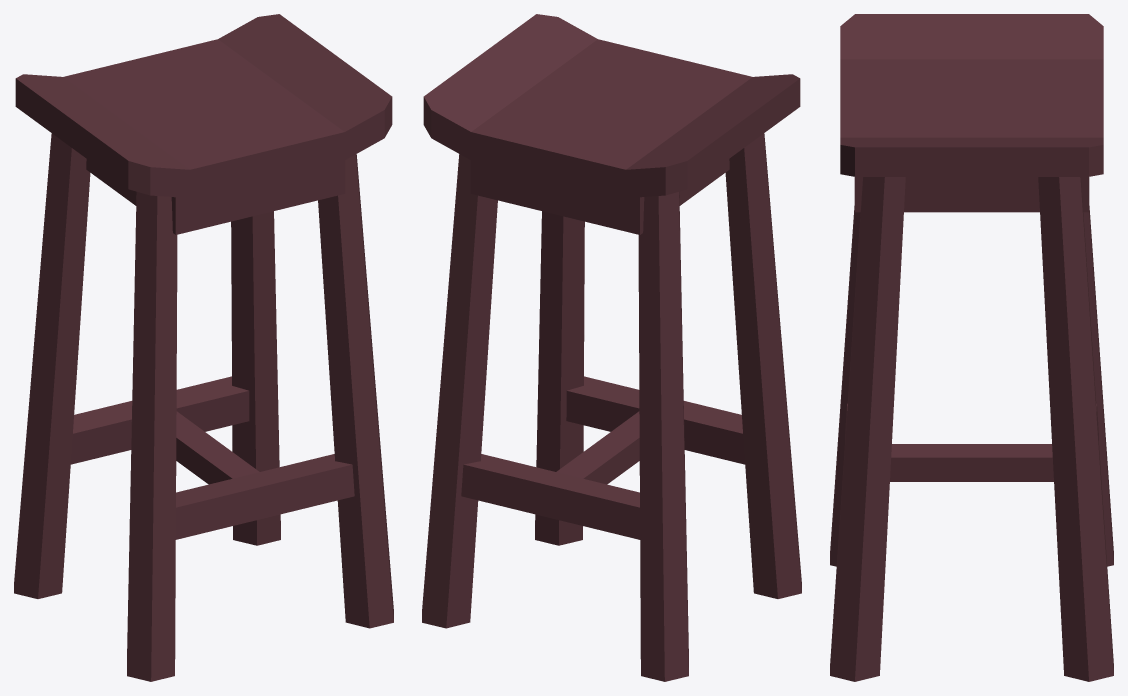
File: furniture-stool-bar.glb
The picture shows the model from 3 angles, left to right: view 1: azimuth 30°, elevation 25°; view 2: azimuth 150°, elevation 25°; view 3: azimuth 270°, elevation 25°; orthographic projection. The views are drawn at different scales.
Parts seen in each view (by area): view 1: stool-bar; view 2: stool-bar; view 3: stool-bar.
Boxes of the visible parts, x1,y1,x2,y2 form: stool-bar: (14, 14, 393, 681); stool-bar: (422, 14, 801, 681); stool-bar: (830, 14, 1113, 681).
Size of the model in its own units: 0.4251 by 0.7833 by 0.3777.
